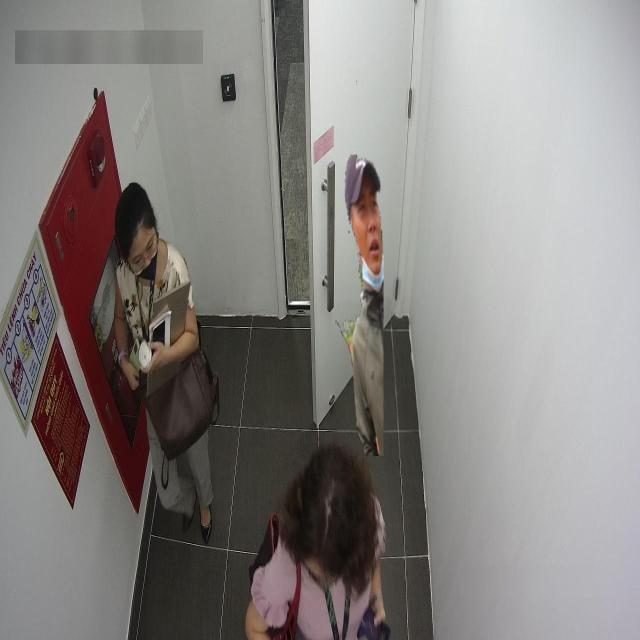hairnet: (357, 195, 385, 292)
